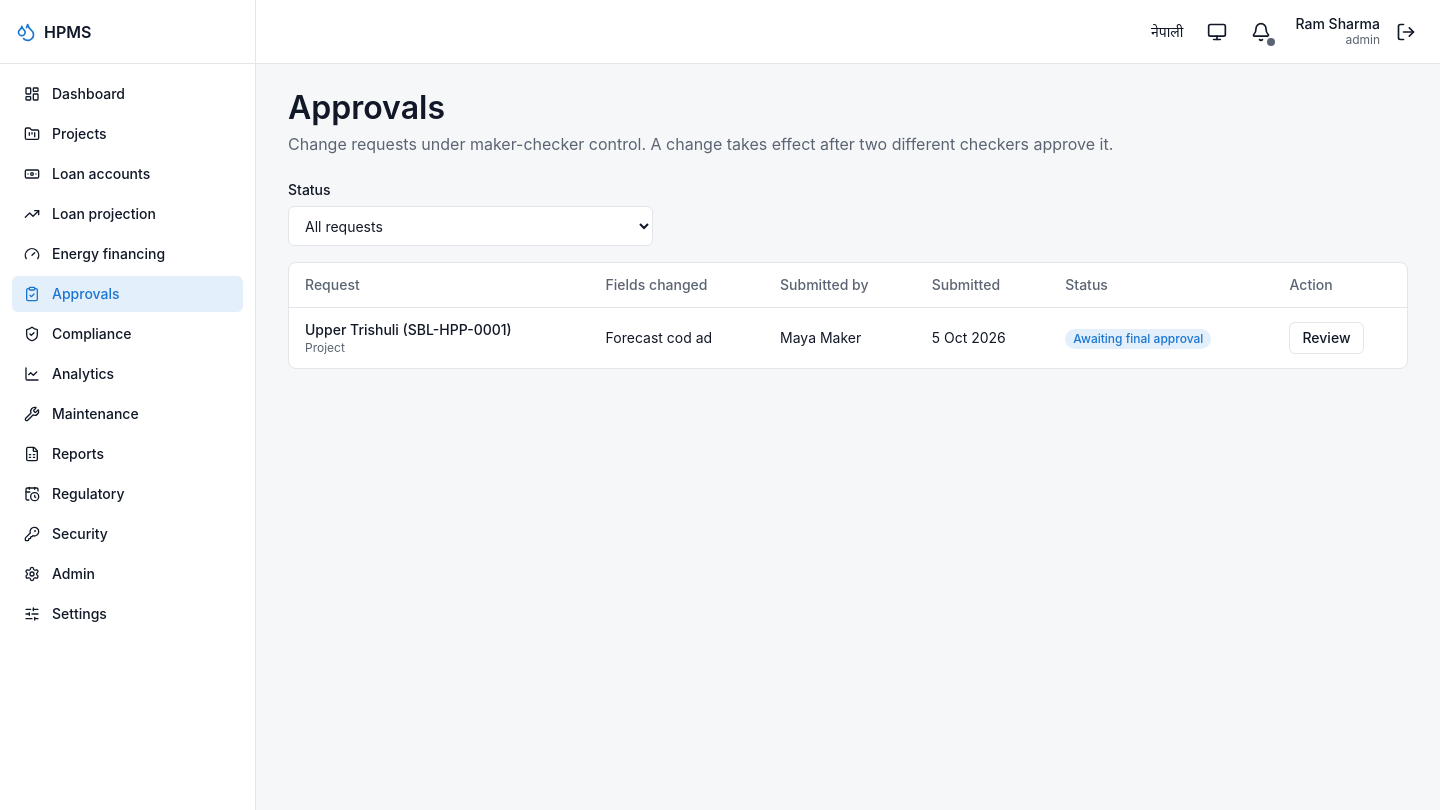
Test: ApprovalQueuePage › labels the second check as the one that applies the change
The width and height of the screenshot is (1440, 810).
Click the button "Review" at {"x": 1326, "y": 338}, box 1290,322 -> 1364,354
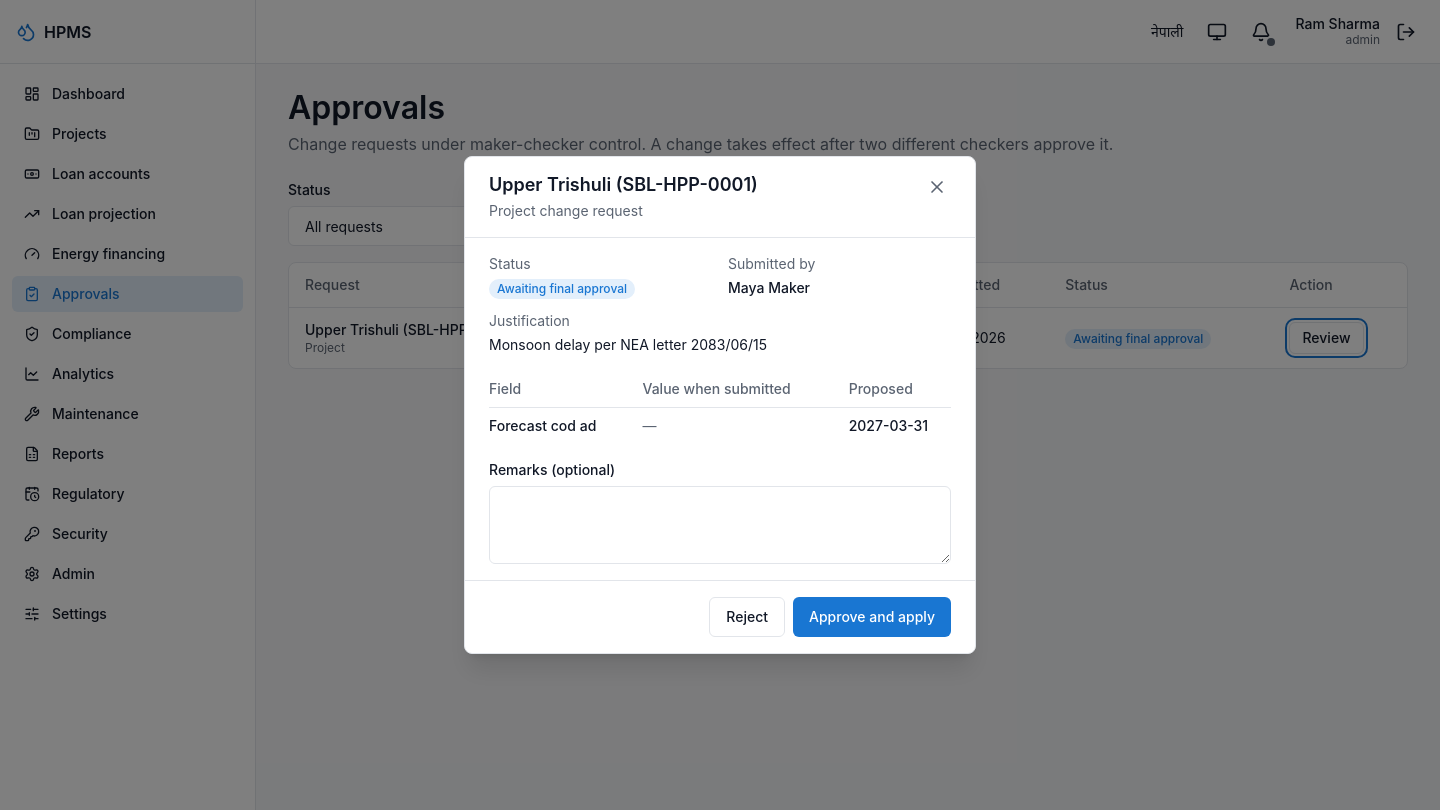
Expected: the dialog does not show "Nothing changes yet", 464,156 -> 976,654
Now the button "Approve and apply" is shown, box 793,597 -> 951,637
